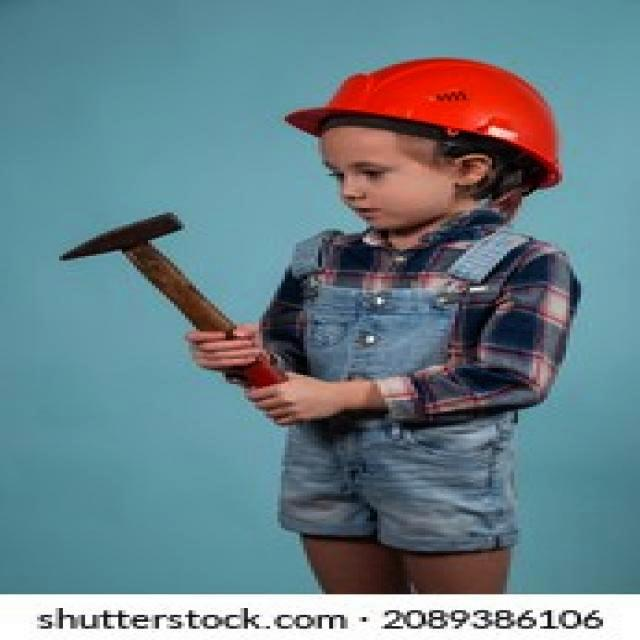hammer: (40, 206, 318, 427)
